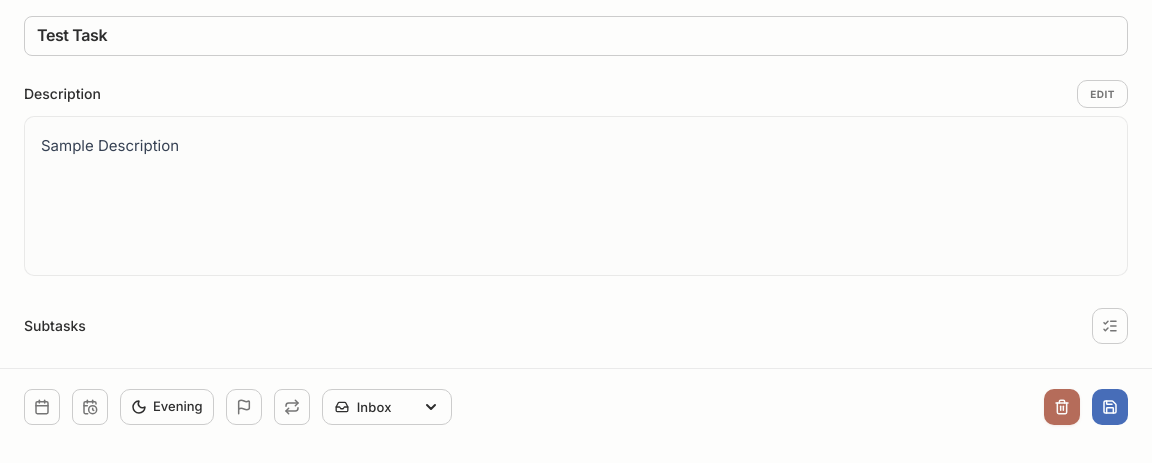
Test: TaskDetailPanel › TD-E-01: Shows validation error for empty content
This screenshot has width=1152, height=463.
Clearing content
Clear the text box showing "Test Task". click: (576, 36)
box: [24, 16, 1128, 56]
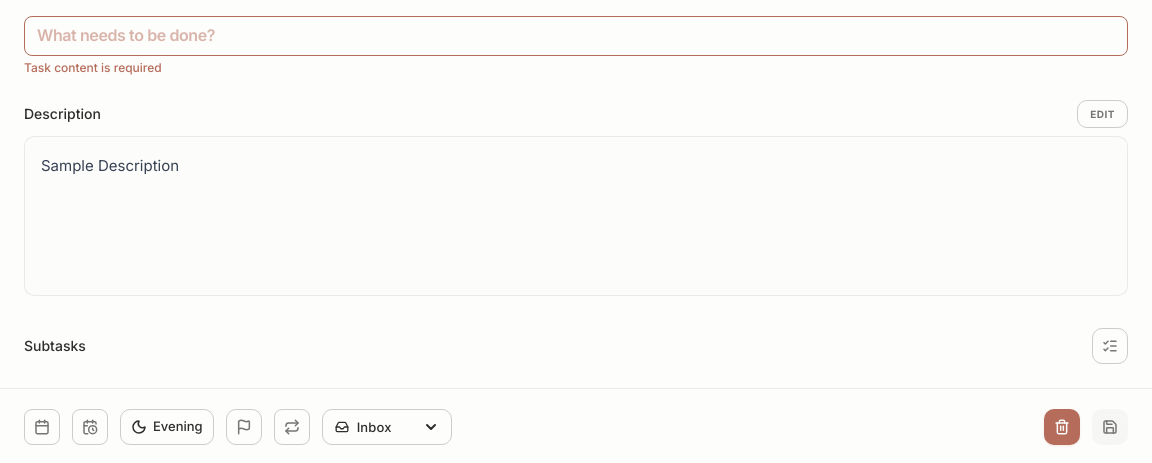
Check: the text "Task content is required" is shown, box [24, 60, 162, 75]
Check: the button named "save" is disabled, box [1092, 409, 1128, 445]
